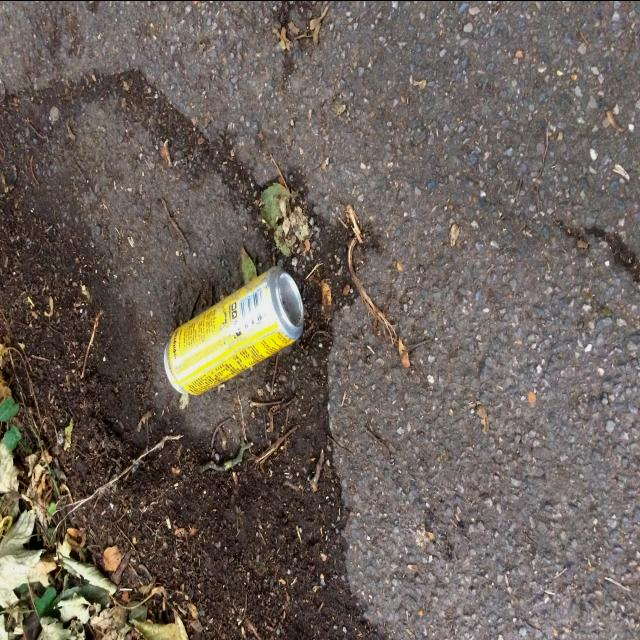Drink can: (164, 266, 304, 394)
